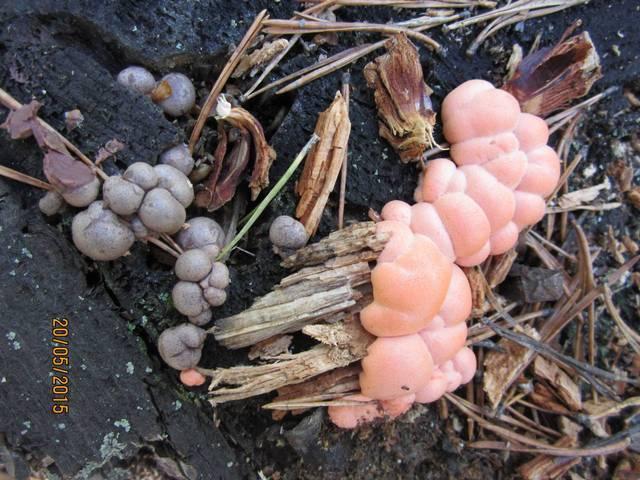Non-edible Mushroom: (352, 77, 561, 414), (19, 135, 237, 319), (356, 232, 477, 405), (358, 233, 452, 337), (70, 201, 134, 261), (156, 321, 206, 370), (137, 186, 186, 234), (150, 71, 196, 117), (268, 214, 308, 251), (116, 64, 155, 95)
